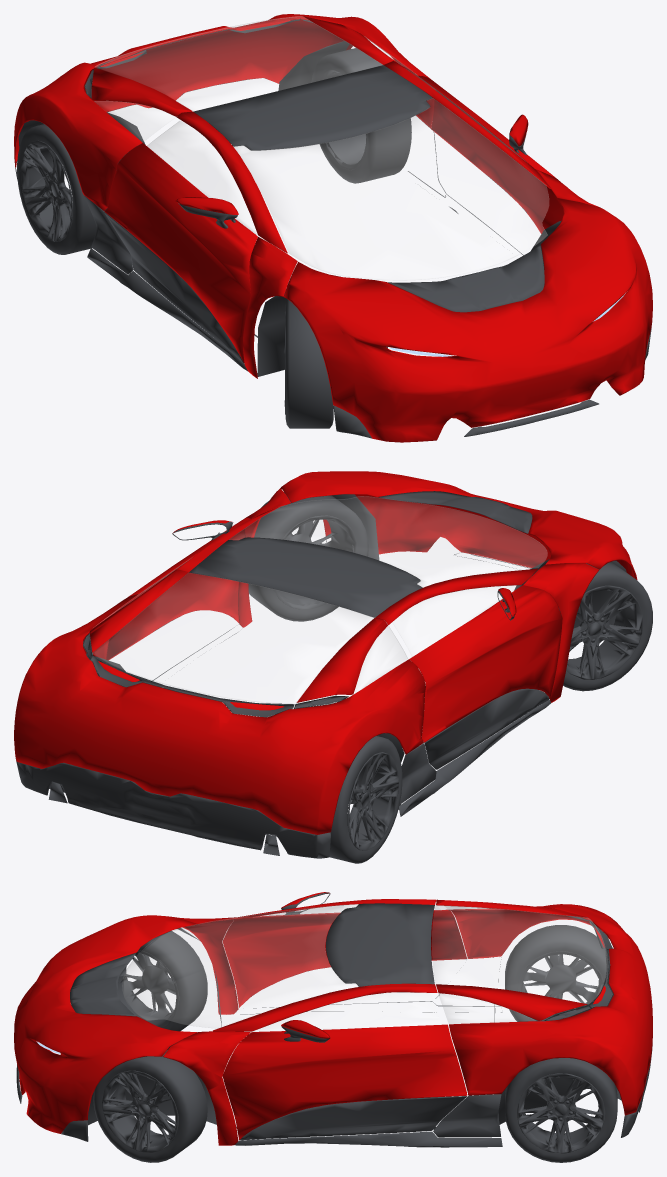
File: voiture-bas.glb
3 renders of one model, top to bottom at view 1: azimuth 30°, elevation 25°; view 2: azimuth 150°, elevation 25°; view 3: azimuth 270°, elevation 25°, orthographic. The views are drawn at different scales.
Visible parts, largest first — view 1: BodyRearPanelsColor1, BodyWindshield, BodyUnderside; view 2: BodyRearPanelsColor1, BodyUnderside, BodyWindshield; view 3: BodyRearPanelsColor1, BodyUnderside, BodyWindshield.
Boxes of the visible parts, bbox=[...] form: BodyRearPanelsColor1: bbox=[14, 14, 652, 442]; BodyWindshield: bbox=[94, 16, 548, 280]; BodyUnderside: bbox=[15, 18, 651, 438]; BodyRearPanelsColor1: bbox=[14, 471, 637, 834]; BodyUnderside: bbox=[15, 491, 652, 863]; BodyWindshield: bbox=[92, 496, 547, 703]; BodyRearPanelsColor1: bbox=[14, 892, 652, 1145]; BodyUnderside: bbox=[16, 892, 652, 1162]; BodyWindshield: bbox=[122, 904, 606, 1031].
Size of the model in its own units: 2.54 by 1.15 by 4.36.
